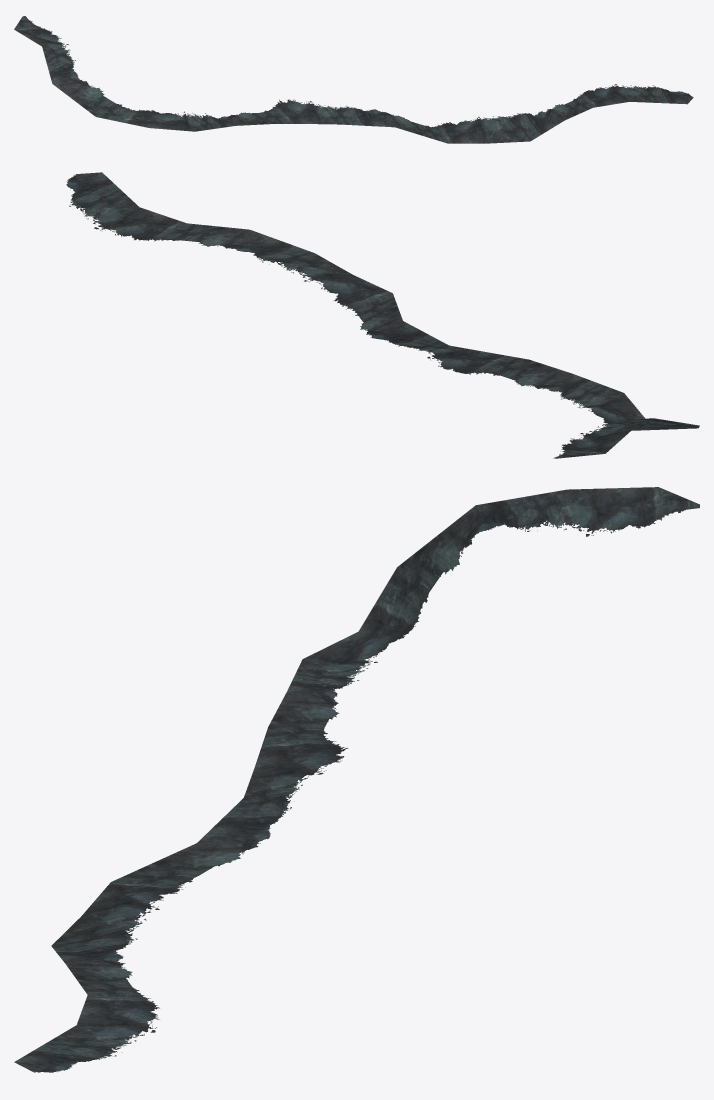
File: blend_weeds16.fbx
3 renders of one model, top to bottom at view 1: azimuth 30°, elevation 25°; view 2: azimuth 150°, elevation 25°; view 3: azimuth 270°, elevation 25°, orthographic. The views are drawn at different scales.
Visible parts, largest first — view 1: New_terrain/Material_#238682132; view 2: New_terrain/Material_#238682132; view 3: New_terrain/Material_#238682132.
Boxes of the visible parts, bbox=[...] form: New_terrain/Material_#238682132: bbox=[14, 16, 693, 143]; New_terrain/Material_#238682132: bbox=[66, 172, 699, 458]; New_terrain/Material_#238682132: bbox=[14, 487, 699, 1072].
Size of the model in its own units: 39.85 by 5.5 by 23.93.
